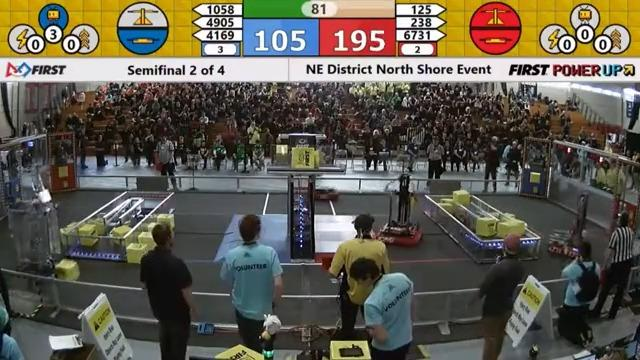robot: (6, 179, 81, 290), (370, 170, 426, 253), (545, 189, 592, 261), (298, 181, 342, 200)
